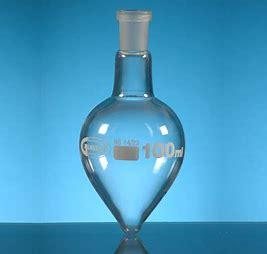Pear shaped flask: (71, 10, 190, 230)
